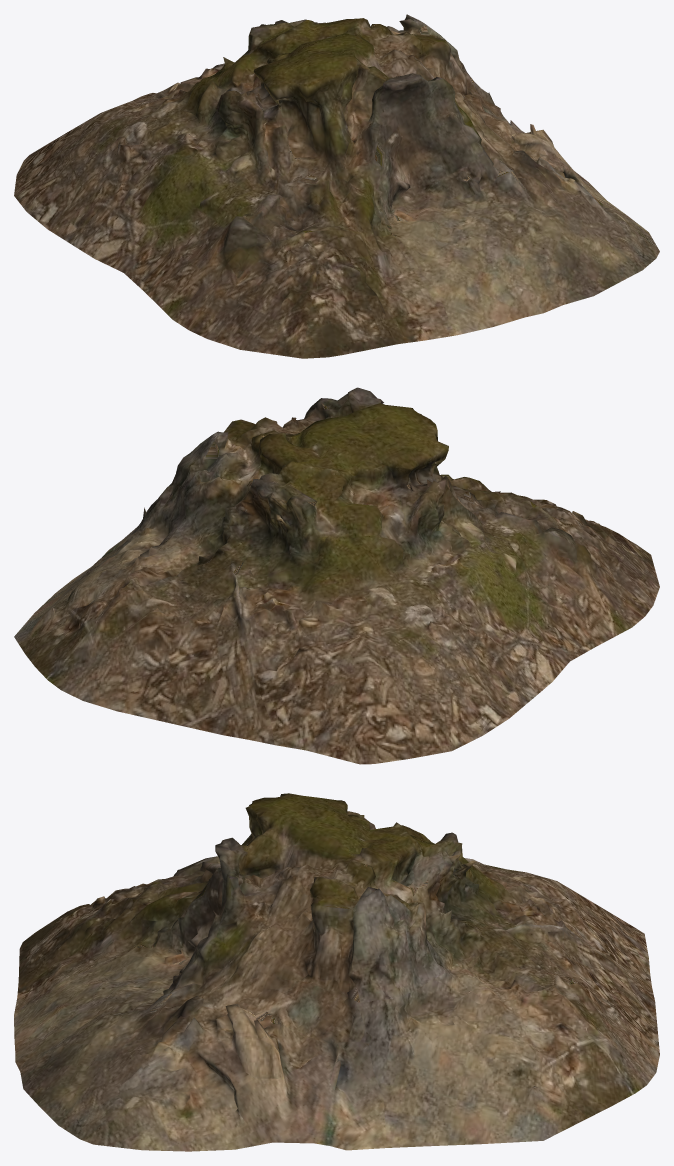
Rendered from tree_stump_01.glb.
3 views of the same model, one above another, from view 1: azimuth 30°, elevation 25°; view 2: azimuth 150°, elevation 25°; view 3: azimuth 270°, elevation 25° (orthographic). The views are drawn at different scales.
Parts seen in each view (by area): view 1: tree_stump_01; view 2: tree_stump_01; view 3: tree_stump_01.
Part boxes in pixels (box(x1,y1,x2,y2)): tree_stump_01: box(14, 14, 659, 358); tree_stump_01: box(14, 387, 659, 764); tree_stump_01: box(14, 793, 659, 1151).
Bounding box in the file's own units: 1.43 × 0.5709 × 1.59.
1 material, 1 textured.
